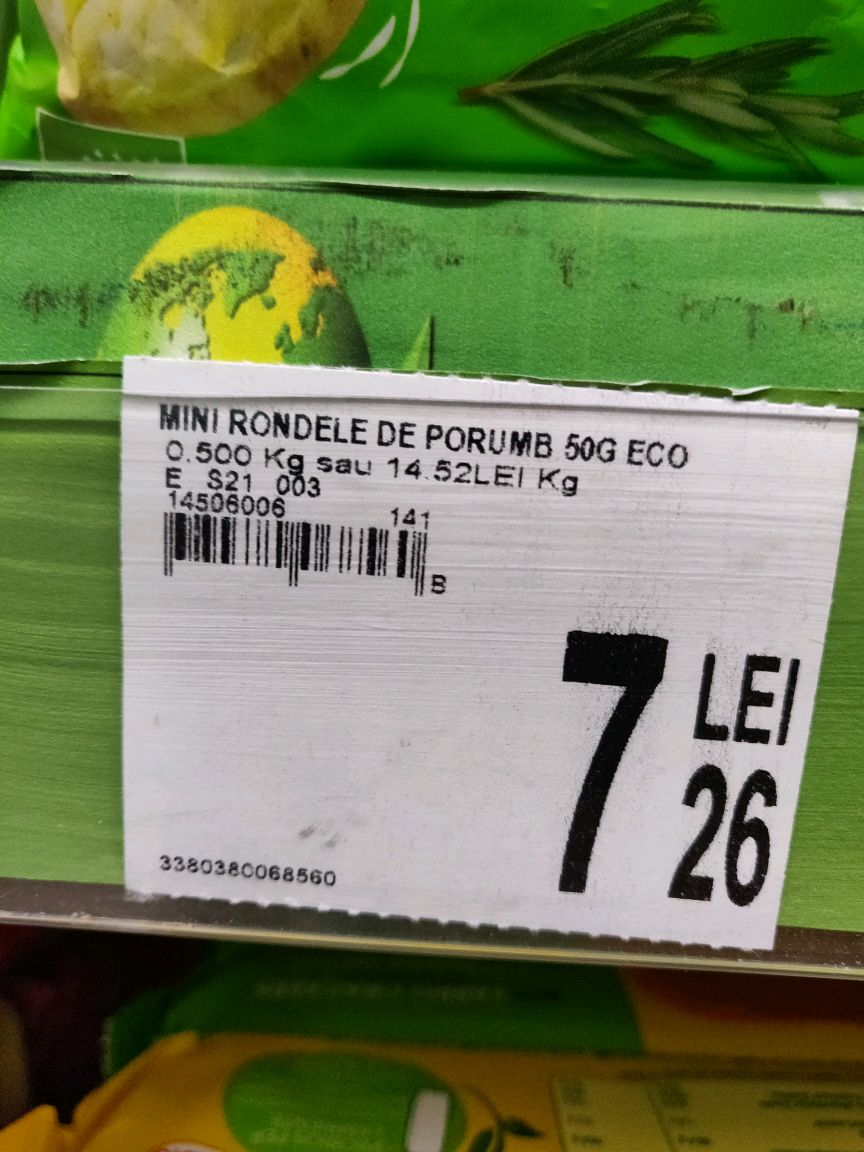price_bani: (656, 763, 790, 910)
price_lei: (515, 609, 673, 905)
price_tag: (95, 342, 860, 954)
product_id: (148, 844, 356, 902)
product_name: (139, 391, 698, 482)
